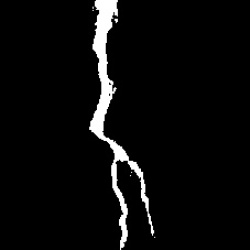crack: (89, 1, 155, 248)
